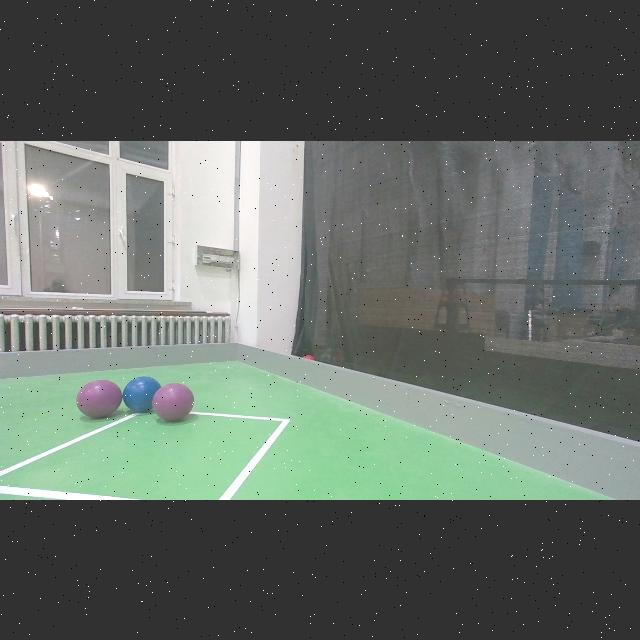B: (123, 376, 163, 412)
P: (76, 380, 122, 418), (152, 382, 196, 420)
